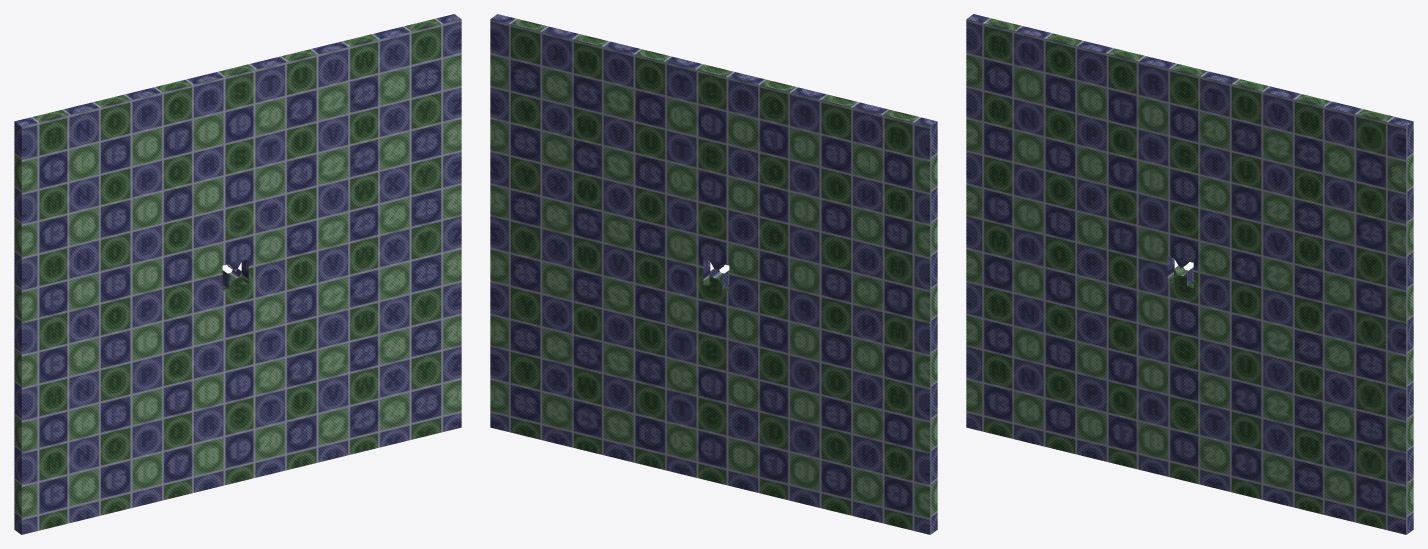
File: Barriera_M.FBX
3 renders of one model, left to right at view 1: azimuth 30°, elevation 25°; view 2: azimuth 150°, elevation 25°; view 3: azimuth 330°, elevation 25°, orthographic.
Parts seen in each view (by area): view 1: BARRIERA_M; view 2: BARRIERA_M; view 3: BARRIERA_M.
Part boxes in pixels (x1,y1,x2,y2): BARRIERA_M: [14, 14, 461, 534]; BARRIERA_M: [490, 14, 937, 534]; BARRIERA_M: [966, 14, 1413, 534].
Bounding box in the file's own units: 3498 × 3100 × 100.
Materials: 1 (1 with a texture image).
